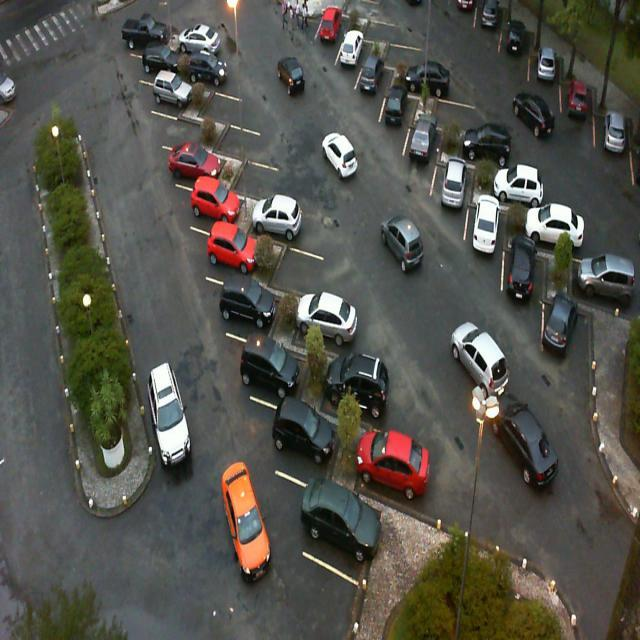space-empty: (272, 235, 337, 297), (237, 148, 295, 200), (202, 78, 258, 127), (158, 101, 207, 151), (222, 117, 272, 160), (434, 94, 478, 134), (366, 11, 411, 48), (389, 38, 428, 74)
space-occupied: (304, 468, 388, 582), (271, 390, 348, 479), (317, 353, 388, 431), (365, 425, 432, 507), (245, 326, 312, 406), (223, 270, 286, 343), (302, 288, 362, 358), (570, 260, 630, 322), (542, 303, 591, 374), (204, 224, 262, 281), (254, 192, 315, 246), (192, 176, 248, 234), (533, 205, 585, 263), (468, 198, 507, 272), (503, 241, 543, 312), (496, 165, 552, 214), (171, 139, 224, 188), (431, 163, 472, 225), (400, 122, 442, 182), (464, 124, 514, 170), (315, 9, 352, 68), (380, 92, 416, 152), (410, 61, 458, 104), (354, 63, 392, 116), (335, 40, 372, 94), (151, 75, 197, 116), (561, 75, 590, 136), (139, 46, 182, 87), (175, 31, 220, 68), (192, 58, 237, 94), (500, 30, 532, 79), (529, 50, 560, 100)
